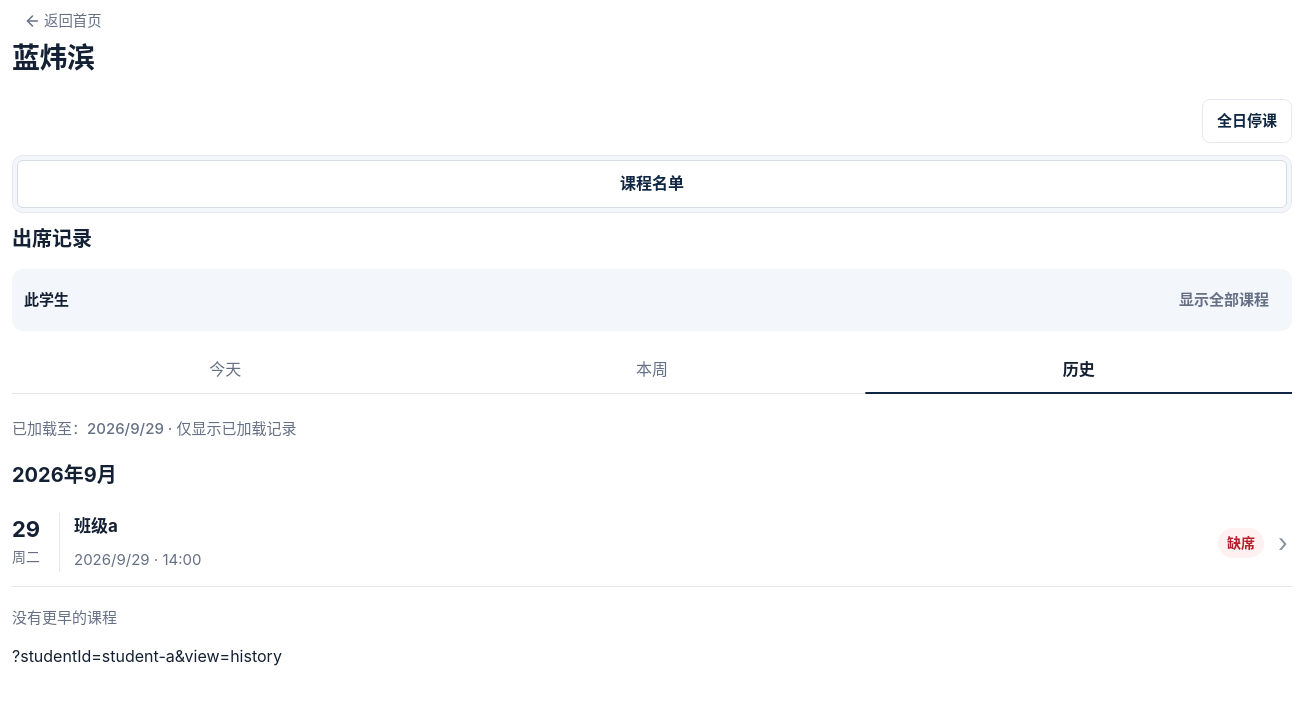
preserves student scope across date tabs and shows only matching course rosters
The image size is (1304, 720).
Check: the link "班级a" is shown, box 12,499 -> 1292,587
Click the button "本周" at (652, 370), box 439,347 -> 865,393
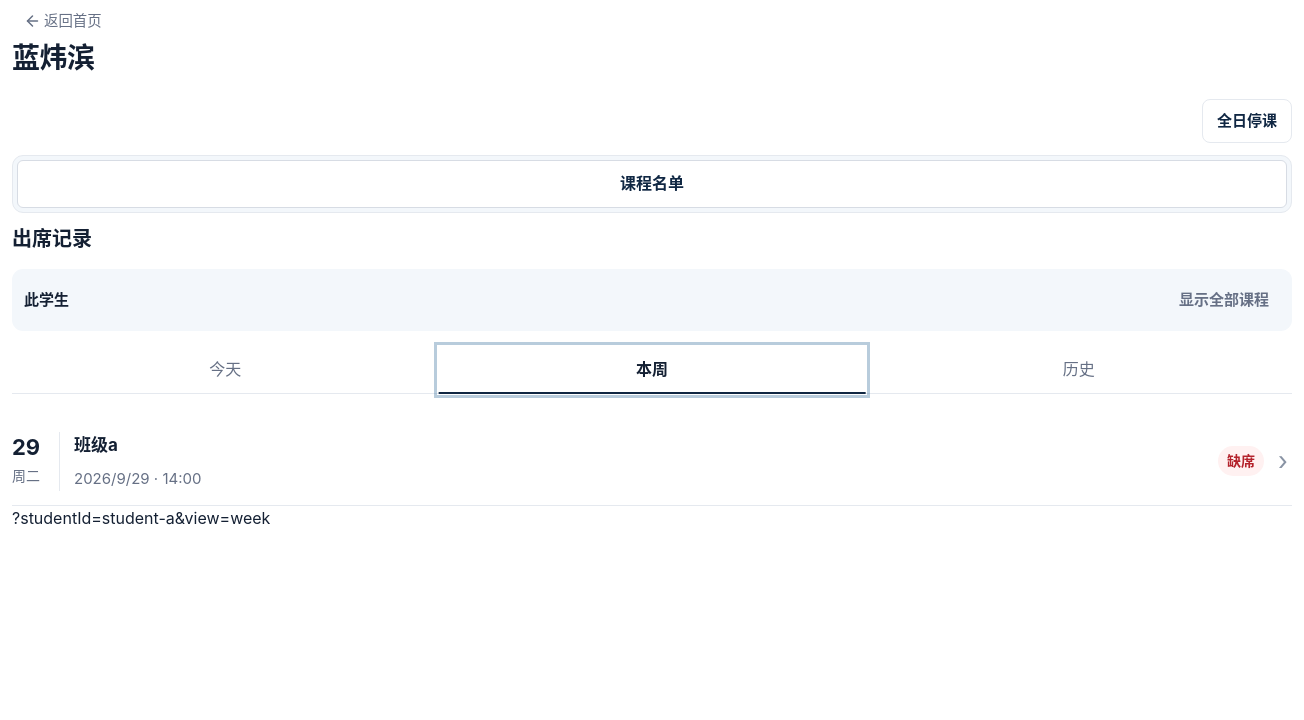
Check: the text with test id "search" shows "studentId=student-a", box 12,508 -> 270,528
Check: the text with test id "search" shows "view=week", box 12,508 -> 270,528
